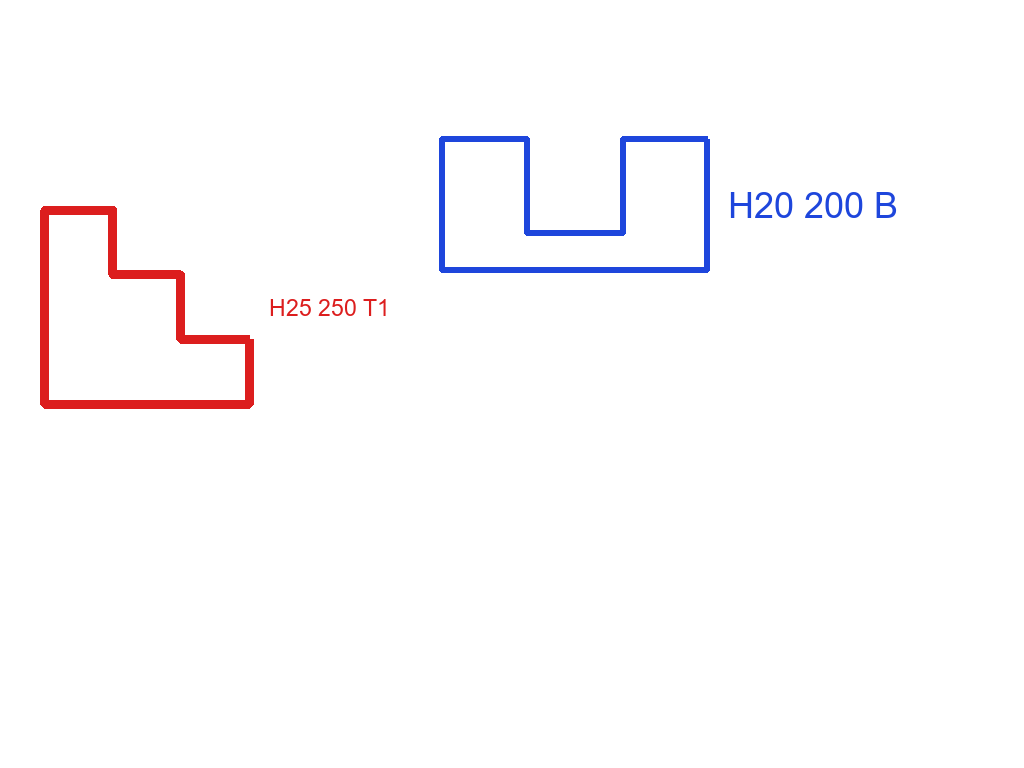shape: (38, 204, 256, 411), (437, 135, 713, 275)
text: (726, 190, 900, 220), (267, 297, 392, 318)
